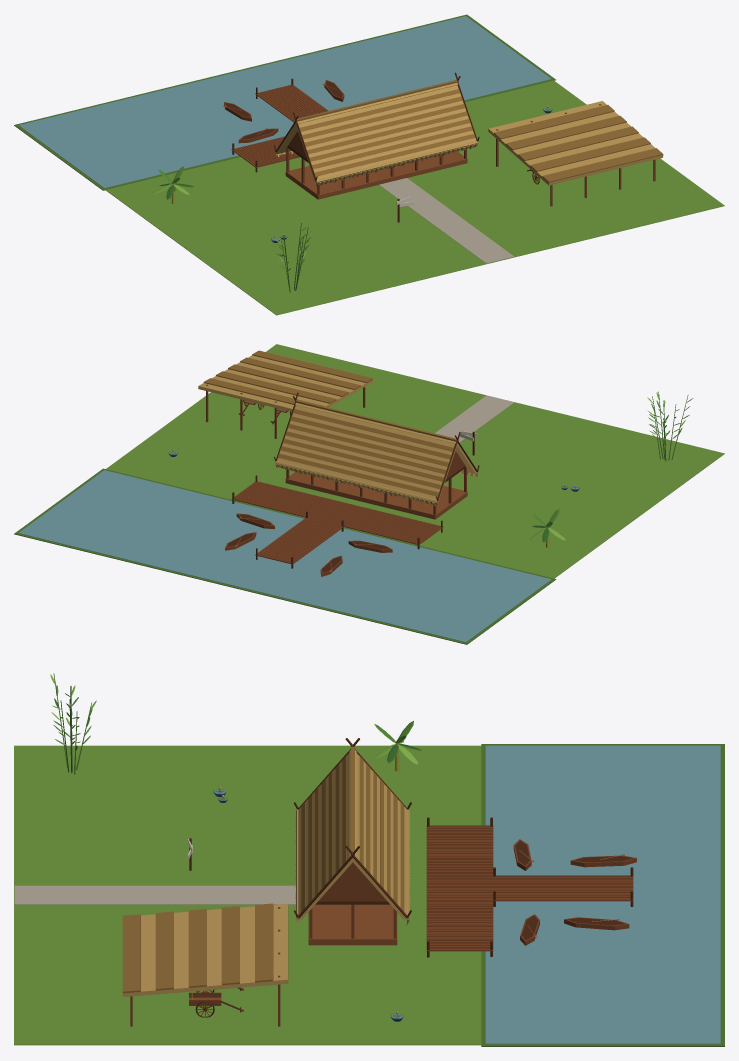
File: station.glb
The picture shows the model from 3 angles, top to bottom: view 1: azimuth 30°, elevation 25°; view 2: azimuth 150°, elevation 25°; view 3: azimuth 270°, elevation 25°; orthographic projection. The views are drawn at different scales.
Visible parts, largest first — view 1: body; view 2: body; view 3: body.
Part boxes in pixels (x1,y1,x2,y2): body: (14,14,724,315); body: (14,344,724,644); body: (14,673,724,1046).
Size of the model in its own units: 48.4 by 8.07 by 48.15.
